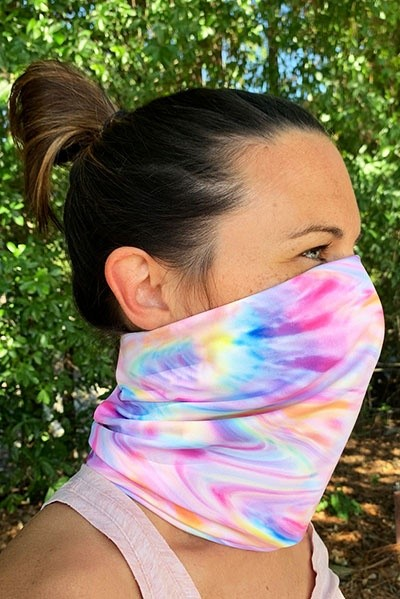face_with_mask: (63, 76, 393, 497)
